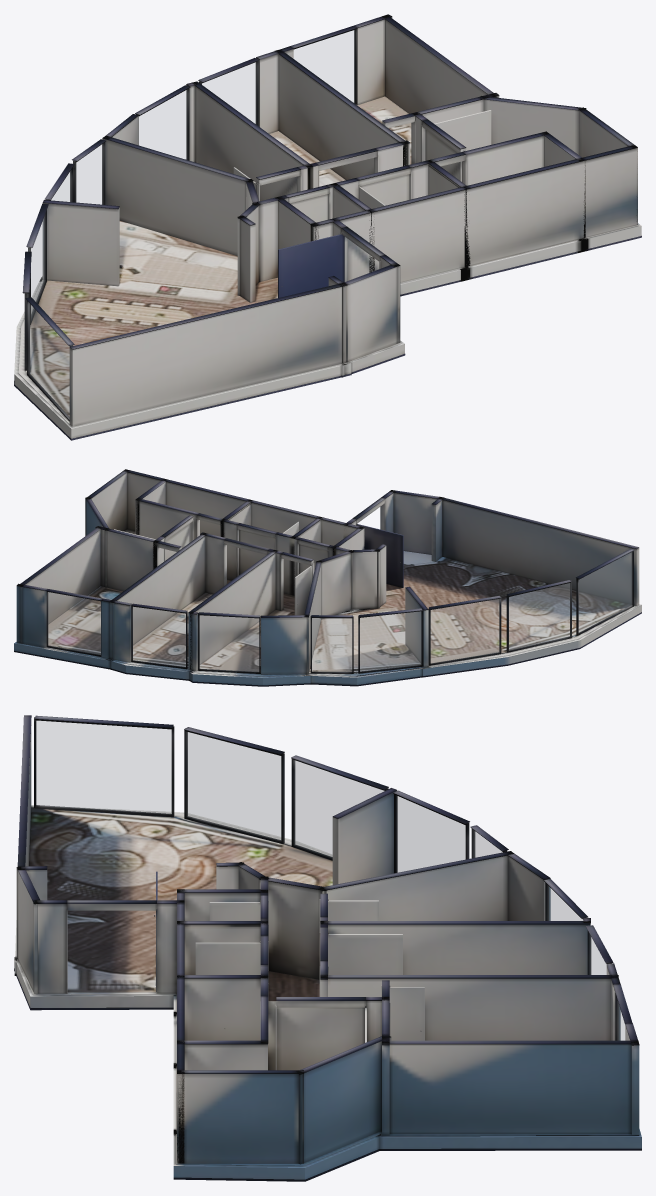
3 views of the same model, one above another, from view 1: azimuth 30°, elevation 25°; view 2: azimuth 150°, elevation 25°; view 3: azimuth 270°, elevation 25° (orthographic). The views are drawn at different scales.
Visible parts, largest first — view 1: plan, glass0_m, glass7_m, glass5_m, glass6_m, glass4_m, glass2_m; view 2: plan, glass2_m, glass3_m, glass1_m, glass5_m, glass0_m, glass6_m, glass7_m, glass4_m; view 3: plan, glass0_m, glass1_m, glass2_m, glass3_m.
Part boxes in pixels (left/top/right/bottom): plan: left=14, top=14, right=641, bottom=440; glass0_m: left=29, top=303, right=69, bottom=417; glass7_m: left=294, top=30, right=354, bottom=102; glass5_m: left=139, top=90, right=186, bottom=159; glass6_m: left=202, top=62, right=256, bottom=123; glass4_m: left=76, top=144, right=102, bottom=204; glass2_m: left=31, top=216, right=44, bottom=316; plan: left=14, top=469, right=641, bottom=686; glass2_m: left=431, top=599, right=499, bottom=663; glass3_m: left=360, top=611, right=421, bottom=671; glass1_m: left=509, top=583, right=569, bottom=650; glass5_m: left=200, top=615, right=258, bottom=671; glass0_m: left=579, top=552, right=632, bottom=632; glass6_m: left=133, top=607, right=185, bottom=666; glass7_m: left=48, top=592, right=100, bottom=654; glass4_m: left=312, top=618, right=351, bottom=671; plan: left=14, top=715, right=641, bottom=1181; glass0_m: left=36, top=721, right=171, bottom=814; glass1_m: left=187, top=732, right=280, bottom=840; glass2_m: left=294, top=760, right=383, bottom=857; glass3_m: left=397, top=796, right=465, bottom=872.
Bounding box in the file's own units: 19.54 × 2.62 × 14.27.
Materials: 2 (1 with a texture image).
